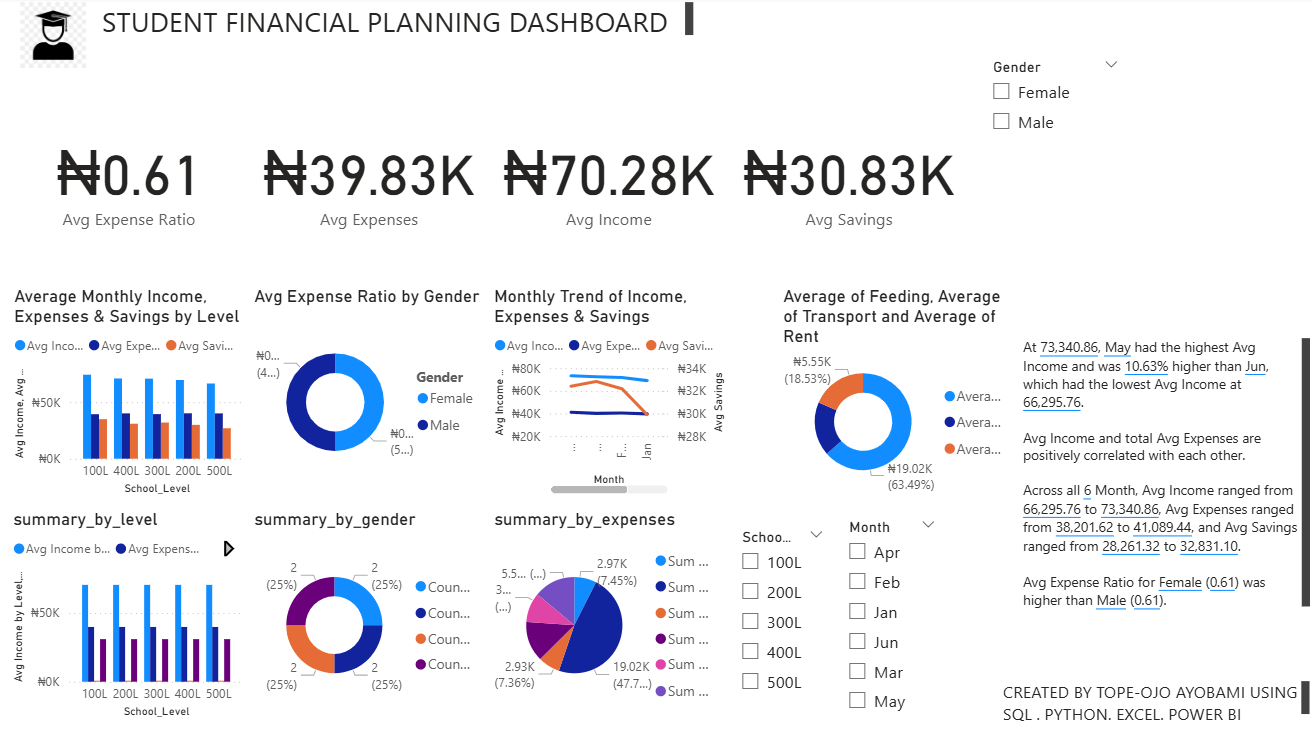

The page's visual inventory and layout, read from the dashboard file:
{"tool":"powerbi","page":{"name":"student financial planning","canvas":[1280,720],"ordinal":0},"visuals":[{"type":"image","box":[9.5,0,85.5,74.1],"z":0},{"type":"textbox","box":[95,0,584.9,43.7],"z":1000},{"type":"textbox","box":[971.7,660.4,308.3,59.3],"z":2000},{"type":"card","fields":{"Values":["student_financial_planning.Avg Expense Ratio"]},"box":[9.5,74.1,233.6,207],"z":3000},{"type":"card","fields":{"Values":["student_financial_planning.Avg Expenses"]},"box":[243.1,74.1,233.6,207],"z":4000},{"type":"card","fields":{"Values":["student_financial_planning.Avg Income"]},"box":[476.7,74.1,233.6,207],"z":5000},{"type":"card","fields":{"Values":["student_financial_planning.Avg Savings"]},"box":[710.3,74.1,233.6,207],"z":6000},{"type":"clusteredColumnChart","title":"Average Monthly Income, Expenses & Savings by Level","fields":{"Category":["student_financial_planning.School_Level"],"Y":["student_financial_planning.Avg Income","student_financial_planning.Avg Expenses","student_financial_planning.Avg Savings"]},"box":[9.5,281.1,233.6,207],"z":7000},{"type":"donutChart","fields":{"Category":["student_financial_planning.Gender"],"Y":["student_financial_planning.Avg Expense Ratio"]},"box":[243.1,281.1,233.6,207],"z":8000},{"type":"lineChart","title":"Monthly Trend of Income, Expenses & Savings","fields":{"Category":["student_financial_planning.Month"],"Y":["student_financial_planning.Avg Income","student_financial_planning.Avg Expenses"],"Y2":["student_financial_planning.Avg Savings"]},"box":[476.7,281.1,233.6,207],"z":9000},{"type":"donutChart","fields":{"Y":["Avg(student_financial_planning.Feeding)","Avg(student_financial_planning.Transport)","Avg(student_financial_planning.Rent)"]},"box":[757.7,281.1,233.6,207],"z":10000},{"type":"clusteredColumnChart","title":"summary_by_level","fields":{"Category":["student_financial_planning.School_Level"],"Y":["student_financial_planning.Avg Income by Level","student_financial_planning.Avg Expenses by Level","student_financial_planning.Avg Expense Ratio by Level","student_financial_planning.Avg Savings by Level"]},"box":[9,498,234,207],"z":11000},{"type":"donutChart","title":"summary_by_gender","fields":{"Y":["CountNonNull(vw_summary_by_gender.Avg_Expenses)","CountNonNull(vw_summary_by_gender.Avg_Expense_Ratio_Percent)","CountNonNull(vw_summary_by_gender.Avg_Income)","CountNonNull(vw_summary_by_gender.Avg_Savings)"]},"box":[243,498,234,207],"z":12000},{"type":"pieChart","title":"summary_by_expenses","fields":{"Y":["Sum(vw_expense_by_category.Avg_Entertainment)","Sum(vw_expense_by_category.Avg_Feeding)","Sum(vw_expense_by_category.Avg_Other_Expenses)","Sum(vw_expense_by_category.Avg_Transport)","Sum(vw_expense_by_category.Avg_Utilities)","Sum(vw_expense_by_category.Avg_Rent)"]},"box":[477,498,234,207],"z":13000},{"type":"textbox","box":[991.1,326.8,288.9,288.9],"z":14000},{"type":"slicer","fields":{"Values":["student_financial_planning.Gender"]},"box":[954.2,54.5,146.9,192.6],"z":15000},{"type":"slicer","fields":{"Values":["student_financial_planning.School_Level"]},"box":[710,511.6,104.1,208.1],"z":16000},{"type":"slicer","fields":{"Values":["student_financial_planning.Month"]},"box":[814.1,501.9,108.9,203.3],"z":17000}]}

Visuals, with their boxes in screenshot pixels (x1, y1, x2, y2), scaled from the page's 1280x720 canvas onto the 1312x733 screenshot:
image: [10, 0, 97, 75]
textbox: [97, 0, 697, 44]
textbox: [996, 672, 1311, 732]
card - student_financial_planning.Avg Expense Ratio: [10, 75, 249, 286]
card - student_financial_planning.Avg Expenses: [249, 75, 489, 286]
card - student_financial_planning.Avg Income: [489, 75, 728, 286]
card - student_financial_planning.Avg Savings: [728, 75, 967, 286]
"Average Monthly Income, Expenses & Savings by Level" clusteredColumnChart: [10, 286, 249, 497]
donutChart - student_financial_planning.Gender x student_financial_planning.Avg Expense Ratio: [249, 286, 489, 497]
"Monthly Trend of Income, Expenses & Savings" lineChart: [489, 286, 728, 497]
donutChart - Avg(student_financial_planning.Feeding) x Avg(student_financial_planning.Transport): [777, 286, 1016, 497]
"summary_by_level" clusteredColumnChart: [9, 507, 249, 718]
"summary_by_gender" donutChart: [249, 507, 489, 718]
"summary_by_expenses" pieChart: [489, 507, 729, 718]
textbox: [1016, 333, 1311, 627]
slicer - student_financial_planning.Gender: [978, 55, 1129, 252]
slicer - student_financial_planning.School_Level: [728, 521, 834, 732]
slicer - student_financial_planning.Month: [834, 511, 946, 718]
